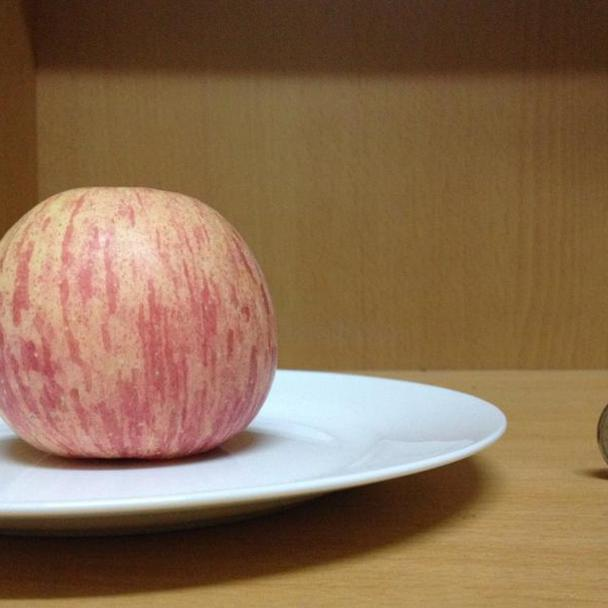apple: (1, 187, 278, 459)
